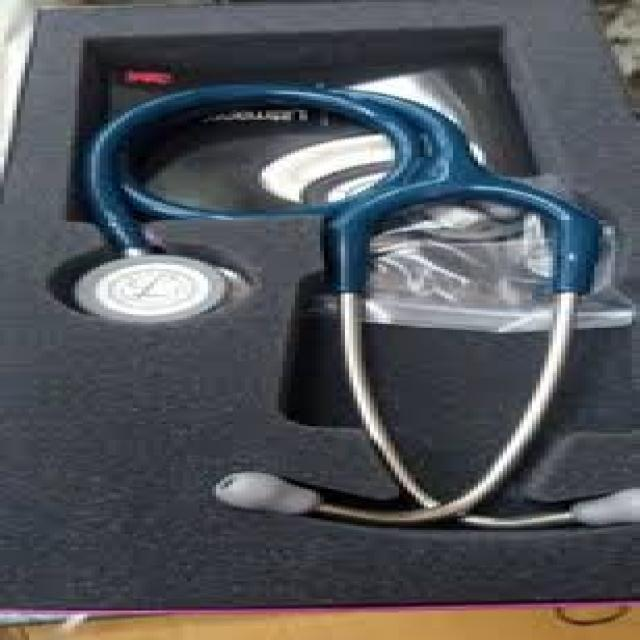stethoscope: (58, 74, 564, 588)
